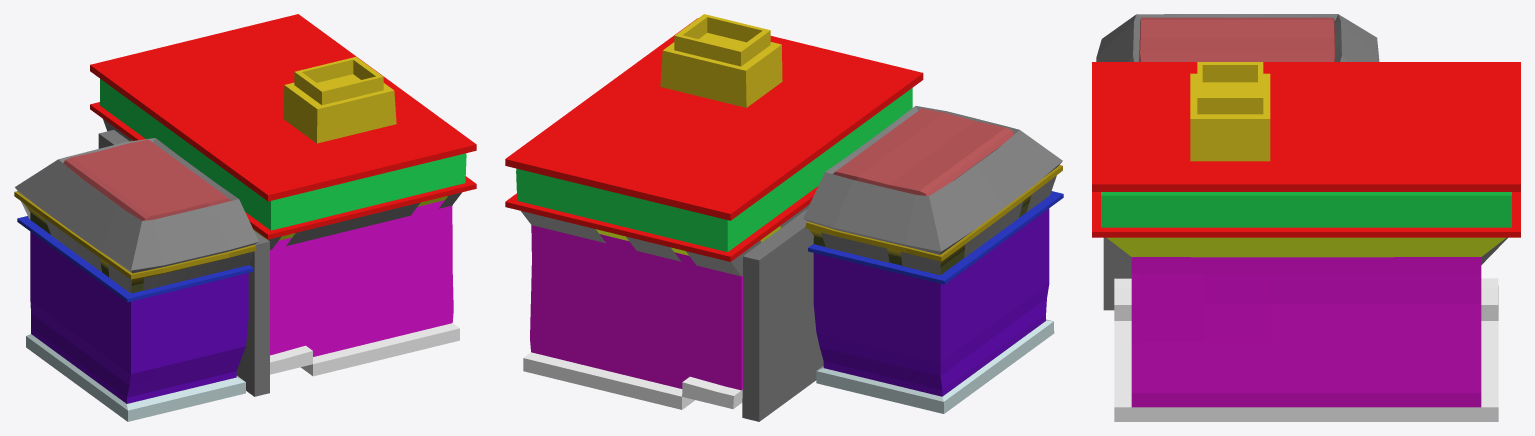
Rendered from HouseProp_01.fbx.
3 renders of one model, left to right at view 1: azimuth 30°, elevation 25°; view 2: azimuth 150°, elevation 25°; view 3: azimuth 270°, elevation 25°, orthographic. The views are drawn at different scales.
Visible parts, largest first — view 1: HouseProp01_low, HouseProp02_low, LoofTop_low, DoorWall_low, LoofBottom_low, Loof_low; view 2: HouseProp01_low, HouseProp02_low, LoofTop_low, DoorWall_low, LoofBottom_low, Loof_low; view 3: HouseProp01_low, HouseProp02_low, LoofTop_low, DoorWall_low.
Part boxes in pixels (bbox=[...]): HouseProp01_low: bbox=[90, 14, 476, 376]; HouseProp02_low: bbox=[14, 139, 256, 421]; LoofTop_low: bbox=[15, 138, 258, 273]; DoorWall_low: bbox=[98, 130, 269, 396]; LoofBottom_low: bbox=[21, 201, 253, 293]; Loof_low: bbox=[103, 119, 461, 249]; HouseProp01_low: bbox=[505, 14, 923, 409]; HouseProp02_low: bbox=[805, 108, 1063, 413]; LoofTop_low: bbox=[803, 106, 1062, 254]; DoorWall_low: bbox=[742, 209, 823, 421]; LoofBottom_low: bbox=[807, 175, 1056, 275]; Loof_low: bbox=[521, 204, 809, 276]; HouseProp01_low: bbox=[1092, 62, 1520, 421]; HouseProp02_low: bbox=[1139, 17, 1335, 61]; LoofTop_low: bbox=[1096, 14, 1379, 61]; DoorWall_low: bbox=[1103, 237, 1131, 310].
Bounding box in the file's own units: 266 × 238 × 184.
